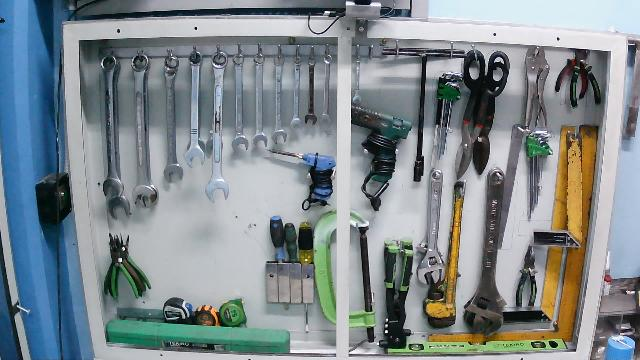gun_lem: (351, 105, 415, 214)
